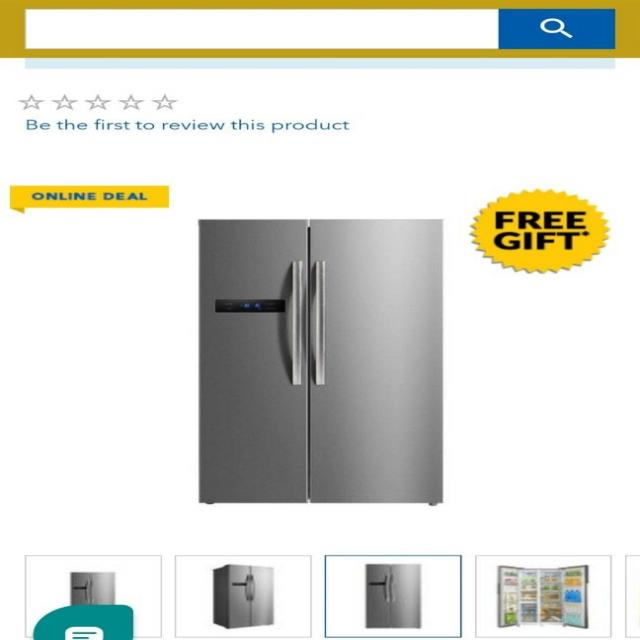refrigerator: (195, 218, 450, 508)
